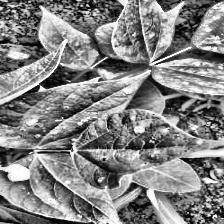Bean Rust: (0, 75, 139, 149), (0, 149, 117, 224), (81, 110, 224, 168), (111, 0, 185, 67), (148, 56, 224, 96), (194, 0, 224, 56)
